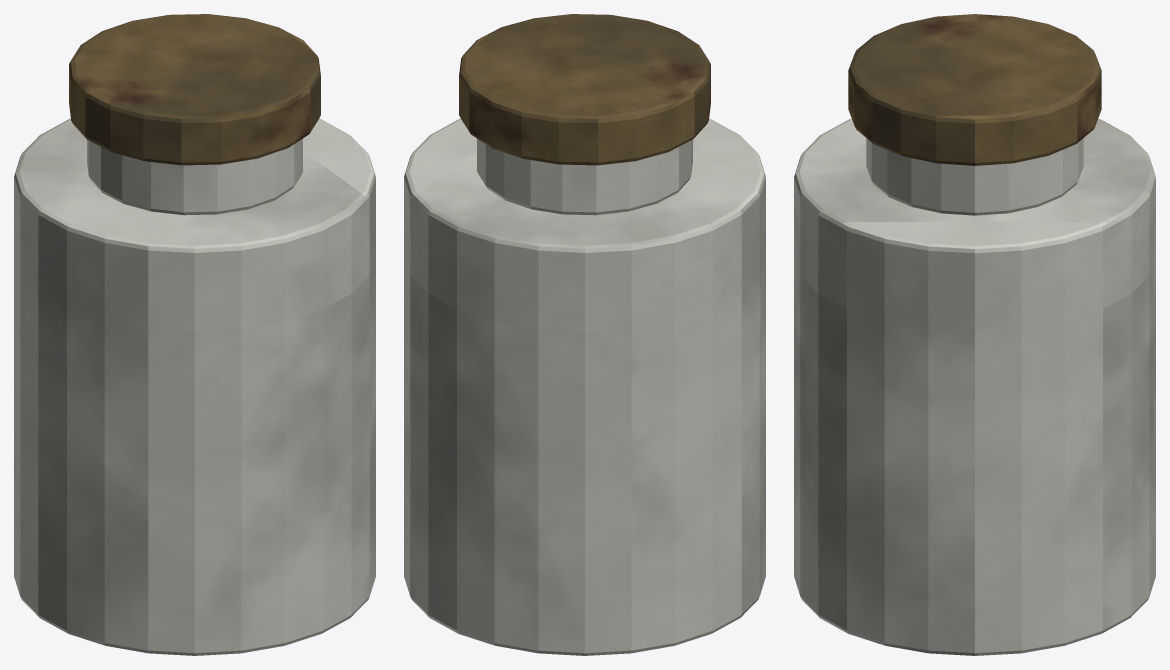
File: W02_sweet_jars_v2.glb
3 renders of one model, left to right at view 1: azimuth 30°, elevation 25°; view 2: azimuth 150°, elevation 25°; view 3: azimuth 270°, elevation 25°, orthographic.
Visible parts, largest first — view 1: W02_sweet_jars_v2; view 2: W02_sweet_jars_v2; view 3: W02_sweet_jars_v2.
Part boxes in pixels (box(x1,y1,x2,y2)): W02_sweet_jars_v2: box(14, 14, 375, 655); W02_sweet_jars_v2: box(404, 14, 765, 655); W02_sweet_jars_v2: box(794, 14, 1155, 655).
Size of the model in its own units: 0.1905 by 0.3 by 0.1905.
3 materials, 3 textured.
